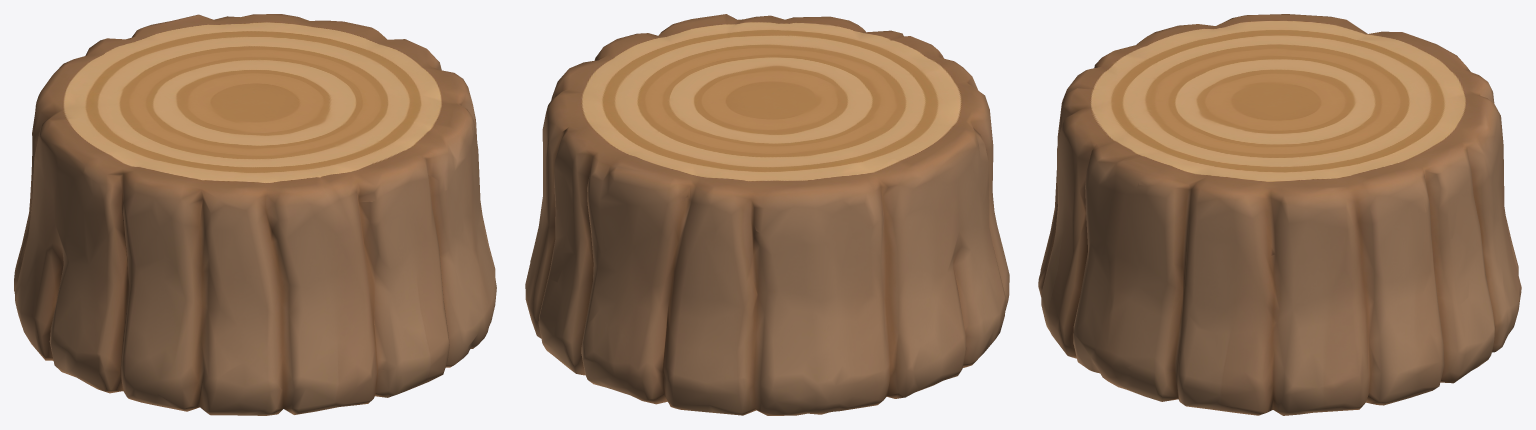
File: stump.glb
3 renders of one model, left to right at view 1: azimuth 30°, elevation 25°; view 2: azimuth 150°, elevation 25°; view 3: azimuth 270°, elevation 25°, orthographic.
Parts seen in each view (by area): view 1: tripo_node_3e8dd5d1-9ea6-4980-9f56-02d263dbf203; view 2: tripo_node_3e8dd5d1-9ea6-4980-9f56-02d263dbf203; view 3: tripo_node_3e8dd5d1-9ea6-4980-9f56-02d263dbf203.
Part boxes in pixels (x1,y1,x2,y2): tripo_node_3e8dd5d1-9ea6-4980-9f56-02d263dbf203: [14, 14, 496, 415]; tripo_node_3e8dd5d1-9ea6-4980-9f56-02d263dbf203: [525, 14, 1009, 415]; tripo_node_3e8dd5d1-9ea6-4980-9f56-02d263dbf203: [1038, 14, 1521, 415].
Bounding box in the file's own units: 0.9976 × 0.5004 × 1.
1 material, 1 textured.
